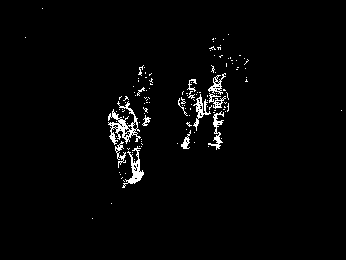person: (108, 94, 145, 190), (203, 73, 229, 150), (178, 77, 203, 151)
